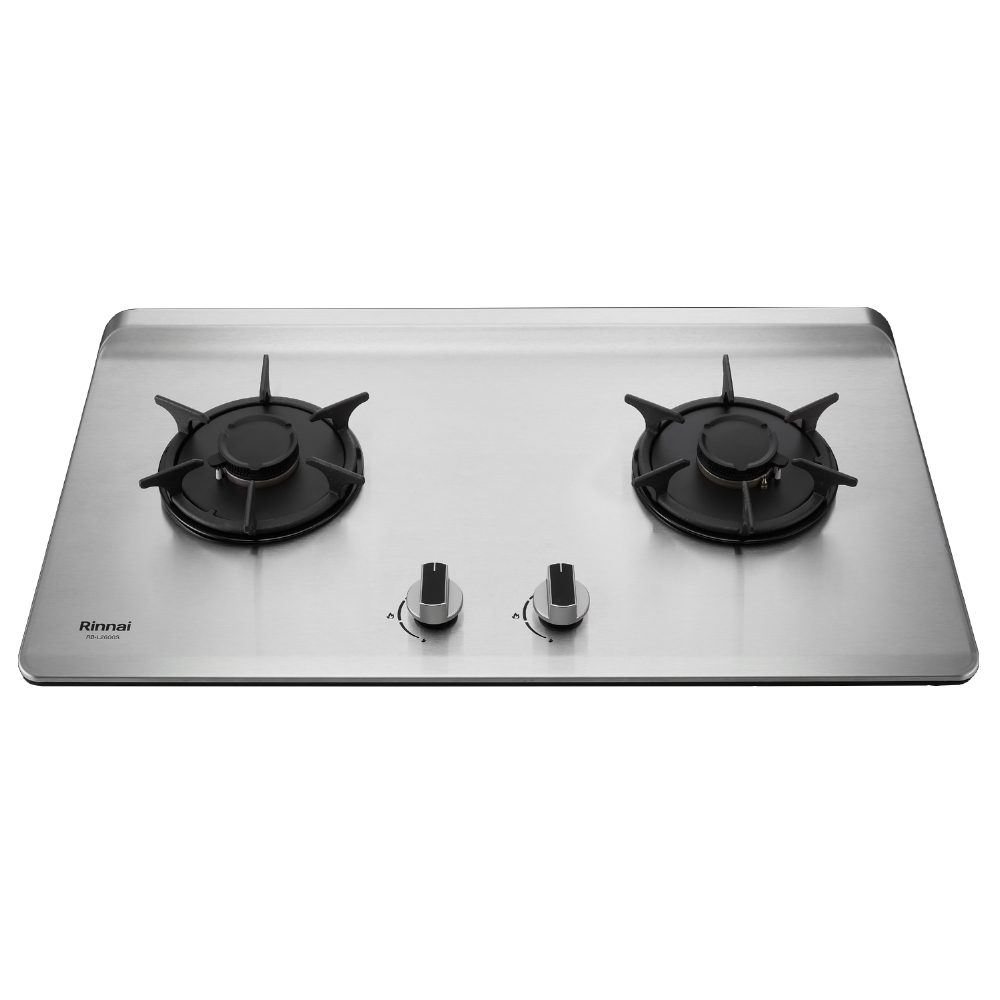gasoven: (17, 295, 990, 702)
